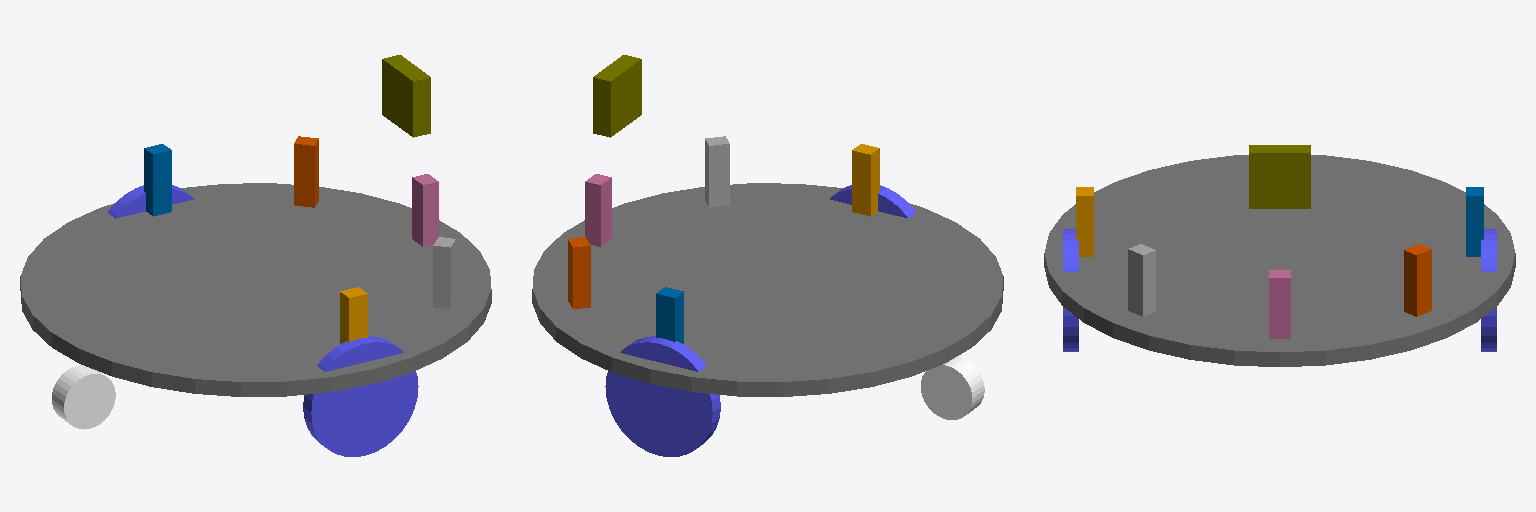
URDF robot description (prsg2_robot):
<?xml version="1.0" encoding="UTF-8" ?>
<robot name="prsg2_robot">

  <link name="base_link">
    <visual>
      <origin xyz="0 0 0.046" rpy="0 0 0" />
      <geometry>
        <cylinder length="0.008" radius="0.1143" />
      </geometry>
      <material name="Gray">
        <color rgba="0.5 0.5 0.5 0.3" />
      </material>
    </visual>
  </link>

  <link name="left_wheel_link">
    <visual>
      <origin xyz="0 0 0" rpy="0 1.57 0" />
      <geometry>
        <cylinder length="0.008" radius="0.030" />
      </geometry>
      <material name="LightBlue">
        <color rgba="0.4 0.4 1.0 1.0" />
      </material>
    </visual>
  </link>

  <joint name="base_to_left_wheel" type="fixed">
    <parent link="base_link" />
    <child link="left_wheel_link" />
    <origin xyz="0 0.1015 0.030" rpy="0 0 1.57" />
  </joint>

  <link name="right_wheel_link">
    <visual>
      <origin xyz="0 0 0" rpy="0 1.57 0" />
      <geometry>
        <cylinder length="0.008" radius="0.030" />
      </geometry>
      <material name="LightBlue" />
    </visual>
  </link>

  <joint name="base_to_right_wheel" type="fixed">
    <parent link="base_link" />
    <child link="right_wheel_link" />
    <origin xyz="0 -0.1015 0.030" rpy="0 0 -1.57" />
  </joint>
  
  <link name="rear_caster_link">
    <visual>
      <origin xyz="-0.0998 -0.006 0.0145" rpy="1.57 0 0" />
      <geometry>
        <cylinder length="0.012" radius="0.0145" />
      </geometry>
      <material name="White">
        <color rgba="1.0 1.0 1.0 1.0" />
      </material>
    </visual>
  </link>

  <joint name="base_to_caster" type="fixed">
    <parent link="base_link" />
    <child link="rear_caster_link" />
    <origin xyz="0 0 0" rpy="0 0 0" />
  </joint>
  
  <link name="ir_left_link">
    <visual>
      <origin xyz="-0.004385 0 -0.00249" rpy="0 0 0" />
      <geometry>
        <!-- Dimensions taken from Pololu dimensional diagram:
          https://www.pololu.com/file/0J817/sds02a-dimensions.pdf -->
        <box size="0.00877 0.01041 0.03302" />
      </geometry>
    </visual>
  </link>

  <joint name="base_to_ir_left" type="fixed">
    <parent link="base_link" />
    <child link="ir_left_link" />
    <origin xyz="0 0.0992 0.069" rpy="0 0 1.57" />
  </joint>

  <link name="ir_left_front_link">
    <visual>
      <origin xyz="-0.004385 0 -0.00249" rpy="0 0 0" />
      <geometry>
        <!-- Dimensions taken from Pololu dimensional diagram:
          https://www.pololu.com/file/0J817/sds02a-dimensions.pdf -->
        <box size="0.00877 0.01041 0.03302" />
      </geometry>
    </visual>
  </link>

  <joint name="base_to_ir_left_front" type="fixed">
    <parent link="base_link" />
    <child link="ir_left_front_link" />
    <origin xyz="0.07 0.07 0.069" rpy="0 0 0.785" />
  </joint>

  <link name="ir_front_link">
    <visual>
      <origin xyz="-0.004385 0 -0.00249" rpy="0 0 0" />
      <geometry>
        <!-- Dimensions taken from Pololu dimensional diagram:
          https://www.pololu.com/file/0J817/sds02a-dimensions.pdf -->
        <box size="0.00877 0.01041 0.03302" />
      </geometry>
    </visual>
  </link>

  <joint name="base_to_ir_front" type="fixed">
    <parent link="base_link" />
    <child link="ir_front_link" />
    <origin xyz="0.0992 0 0.069" rpy="0 0 0" />
  </joint>

  <link name="ir_right_front_link">
    <visual>
      <origin xyz="-0.004385 0 -0.00249" rpy="0 0 0" />
      <geometry>
        <!-- Dimensions taken from Pololu dimensional diagram:
          https://www.pololu.com/file/0J817/sds02a-dimensions.pdf -->
        <box size="0.00877 0.01041 0.03302" />
      </geometry>
    </visual>
  </link>

  <joint name="base_to_ir_right_front" type="fixed">
    <parent link="base_link" />
    <child link="ir_right_front_link" />
    <origin xyz="0.07 -0.07 0.069" rpy="0 0 -0.785" />
  </joint>

  <link name="ir_right_link">
    <visual>
      <origin xyz="-0.004385 0 -0.00249" rpy="0 0 0" />
      <geometry>
        <!-- Dimensions taken from Pololu dimensional diagram:
          https://www.pololu.com/file/0J817/sds02a-dimensions.pdf -->
        <box size="0.00877 0.01041 0.03302" />
      </geometry>
    </visual>
  </link>

  <joint name="base_to_ir_right" type="fixed">
    <parent link="base_link" />
    <child link="ir_right_link" />
    <origin xyz="0 -0.0992 0.069" rpy="0 0 -1.57" />
  </joint>

  <link name="camera_link">
    <visual>
      <origin xyz="-0.005 0 0" />
      <geometry>
        <box size="0.01 0.03 0.03" />
      </geometry>
      <material name="Yellow">
        <color rgba="0.5 0.5 0.0 0.3" />
      </material>
    </visual>
  </link>

  <joint name="base_to_camera" type="fixed">
    <parent link="base_link" />
    <child link="camera_link" />
    <origin xyz="0.0893 0 0.13" />
  </joint>

</robot>

--- Facts derived from the render (not from the file) ---
3 views of the same robot in one strip: view 1: azimuth 30°, elevation 25°; view 2: azimuth 150°, elevation 25°; view 3: azimuth 270°, elevation 25° (orthographic).
Robot: prsg2_robot — 10 links, 9 joints (9 fixed); root link base_link; default pose: every joint at zero.
Visible links, largest first — view 1: base_link, right_wheel_link, camera_link, rear_caster_link, ir_left_link, ir_front_link, ir_left_front_link, ir_right_front_link, ir_right_link, left_wheel_link; view 2: base_link, left_wheel_link, camera_link, rear_caster_link, ir_right_link, ir_front_link, ir_right_front_link, ir_left_front_link, ir_left_link, right_wheel_link; view 3: base_link, camera_link, ir_left_front_link, ir_right_front_link, ir_front_link, left_wheel_link, right_wheel_link, ir_left_link, ir_right_link.
Link boxes in pixels (x1,y1,x2,y2): base_link: [20, 183, 491, 396]; right_wheel_link: [303, 336, 418, 456]; camera_link: [382, 55, 430, 137]; rear_caster_link: [52, 365, 115, 429]; ir_left_link: [144, 144, 171, 216]; ir_front_link: [412, 174, 438, 246]; ir_left_front_link: [294, 136, 318, 207]; ir_right_front_link: [433, 237, 455, 308]; ir_right_link: [340, 287, 367, 343]; left_wheel_link: [107, 185, 193, 218]; base_link: [532, 183, 1003, 396]; left_wheel_link: [605, 336, 720, 456]; camera_link: [593, 55, 641, 137]; rear_caster_link: [921, 356, 984, 419]; ir_right_link: [852, 144, 879, 216]; ir_front_link: [585, 174, 611, 246]; ir_right_front_link: [705, 136, 729, 207]; ir_left_front_link: [568, 237, 590, 308]; ir_left_link: [656, 287, 683, 343]; right_wheel_link: [830, 185, 916, 218]; base_link: [1044, 155, 1515, 366]; camera_link: [1249, 145, 1310, 208]; ir_left_front_link: [1404, 244, 1431, 316]; ir_right_front_link: [1128, 244, 1155, 316]; ir_front_link: [1269, 270, 1290, 338]; left_wheel_link: [1481, 229, 1496, 351]; right_wheel_link: [1063, 229, 1078, 351]; ir_left_link: [1466, 187, 1483, 256]; ir_right_link: [1076, 187, 1093, 256].
Size in the robot's own frame: 0.2286 by 0.2286 by 0.145 metres.
Geometry: primitives only (box / cylinder / sphere), no mesh files.